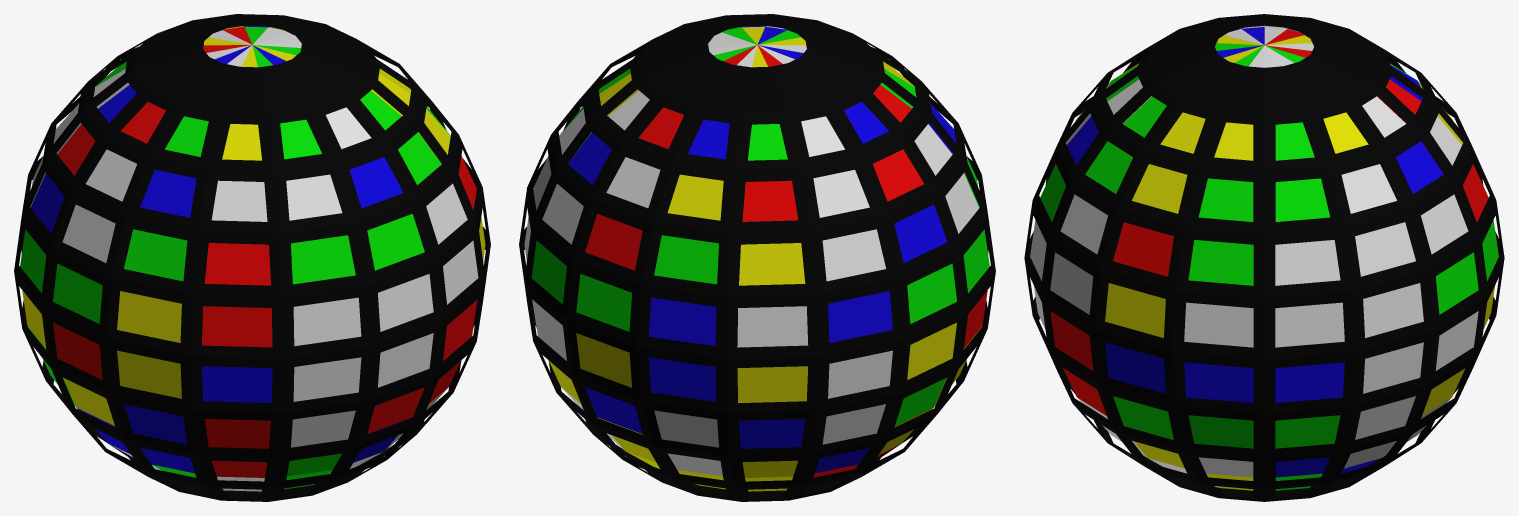
File: pelota disco.fbx
The picture shows the model from 3 angles, left to right: view 1: azimuth 30°, elevation 25°; view 2: azimuth 150°, elevation 25°; view 3: azimuth 270°, elevation 25°; orthographic projection.
Parts seen in each view (by area): view 1: Sphere; view 2: Sphere; view 3: Sphere.
Part boxes in pixels (x1,y1,x2,y2): Sphere: (14, 14, 490, 501); Sphere: (519, 14, 995, 501); Sphere: (1024, 14, 1504, 501).
Size of the model in its own units: 2.05 by 2.02 by 2.05.
